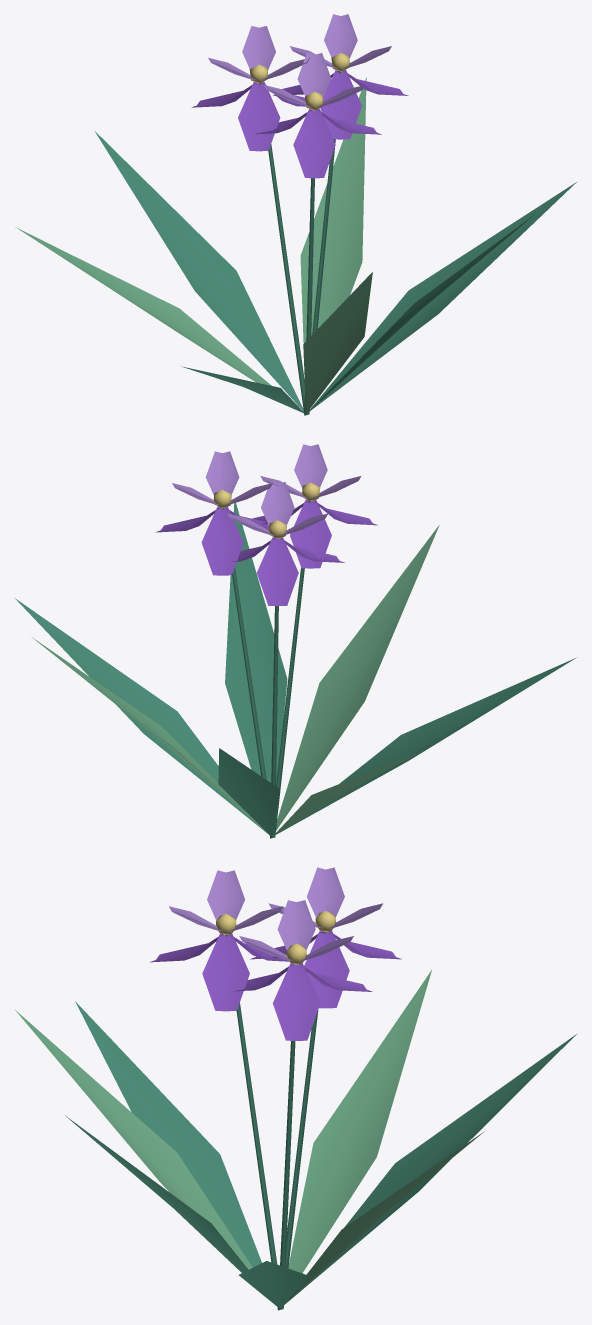
Rendered from iris.glb.
3 views of the same model, one above another, from view 1: azimuth 30°, elevation 25°; view 2: azimuth 150°, elevation 25°; view 3: azimuth 270°, elevation 25° (orthographic). The views are drawn at different scales.
Parts seen in each view (by area): view 1: iris; view 2: iris; view 3: iris.
Boxes of the visible parts, <box> form: iris: <box>15,14,577,415</box>; iris: <box>15,444,576,838</box>; iris: <box>15,867,577,1310</box>.
Size of what is drawn, in the model's own units: 1.06 by 0.75 by 0.9433.
